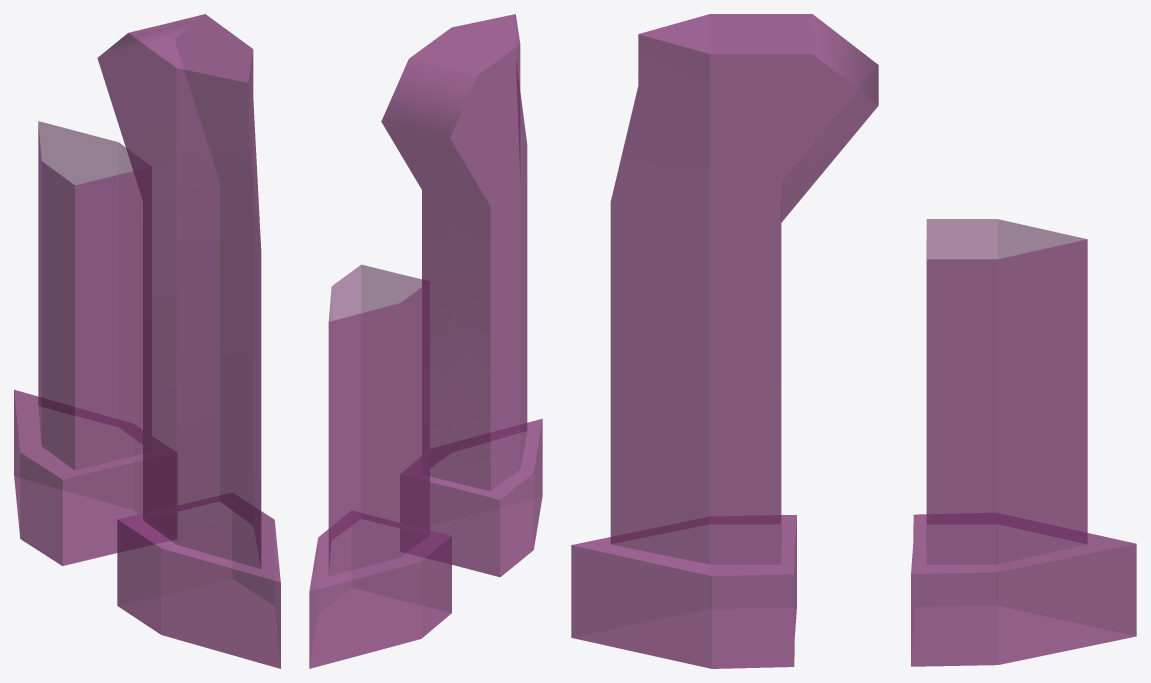
Rendered from SM_Bld_Bridge_Base_01_Damaged_02_collision.fbx.
3 views of the same model, side by side, from view 1: azimuth 30°, elevation 25°; view 2: azimuth 150°, elevation 25°; view 3: azimuth 270°, elevation 25° (orthographic). The views are drawn at different scales.
Parts seen in each view (by area): view 1: SM_Bld_Bridge_Base_01_Damaged_02_collision; view 2: SM_Bld_Bridge_Base_01_Damaged_02_collision; view 3: SM_Bld_Bridge_Base_01_Damaged_02_collision.
Part boxes in pixels (bbox=[...]): SM_Bld_Bridge_Base_01_Damaged_02_collision: bbox=[14, 14, 280, 668]; SM_Bld_Bridge_Base_01_Damaged_02_collision: bbox=[309, 14, 542, 668]; SM_Bld_Bridge_Base_01_Damaged_02_collision: bbox=[571, 14, 1136, 668].
Size of the model in its own units: 327 by 1446 by 1228.
